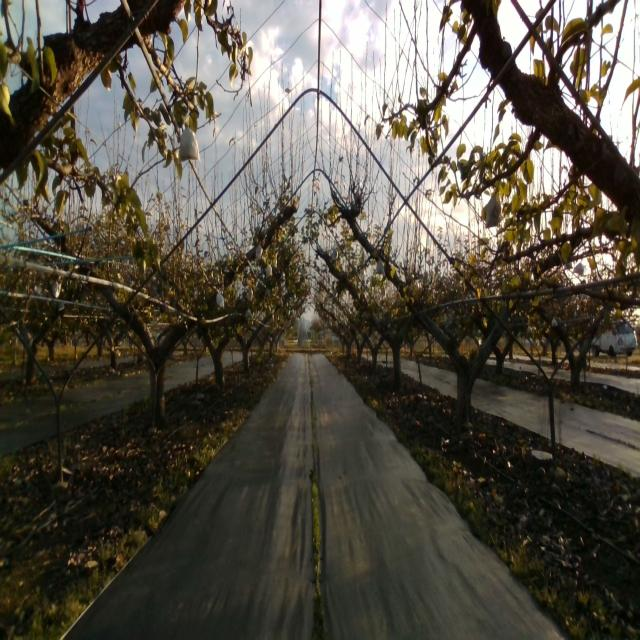pearbags: (177, 120, 200, 166), (485, 183, 502, 229), (375, 256, 386, 277)
